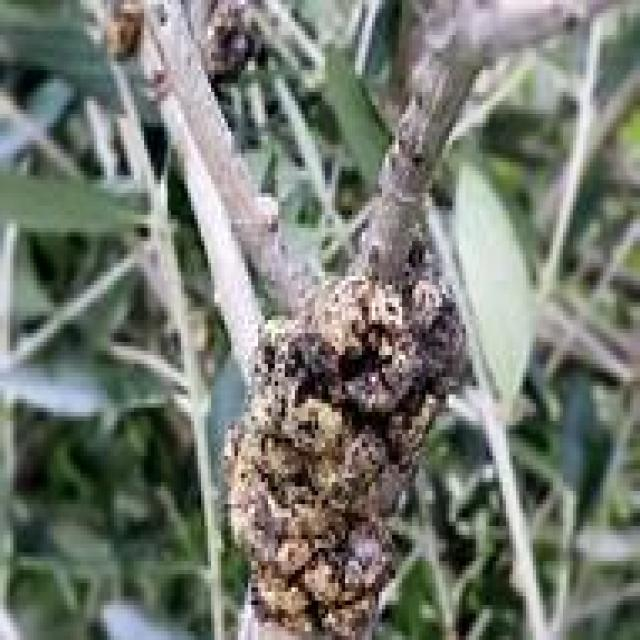Tuberculosis: (225, 224, 459, 636)
